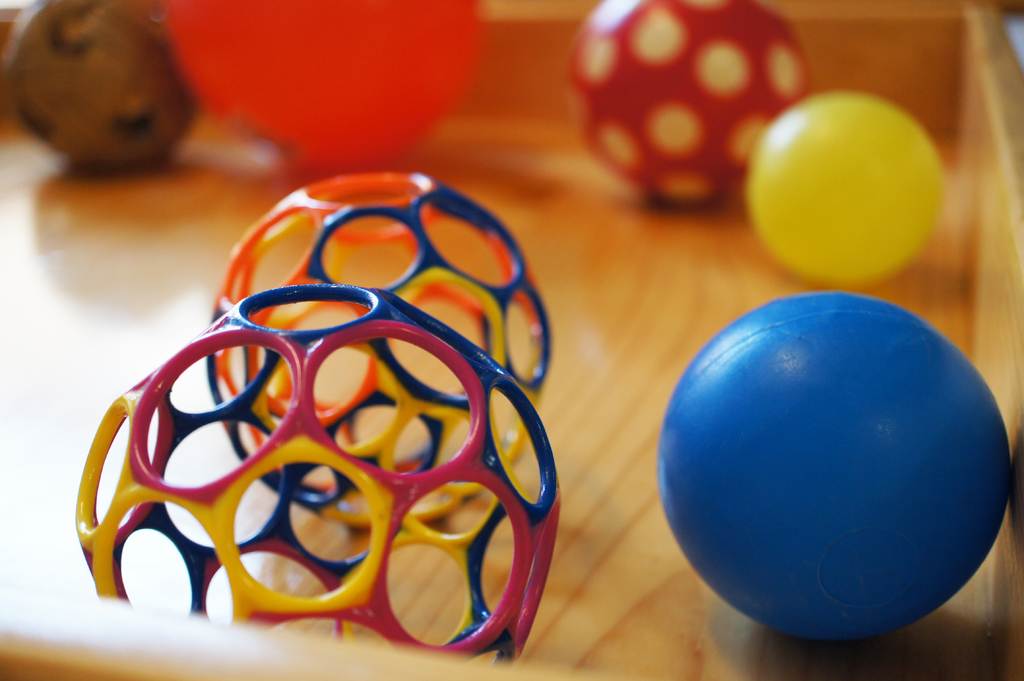Ball: (77, 288, 558, 670), (655, 291, 1011, 648), (209, 174, 548, 531), (162, 0, 488, 170), (573, 0, 814, 203), (749, 94, 943, 282), (8, 0, 198, 175)
